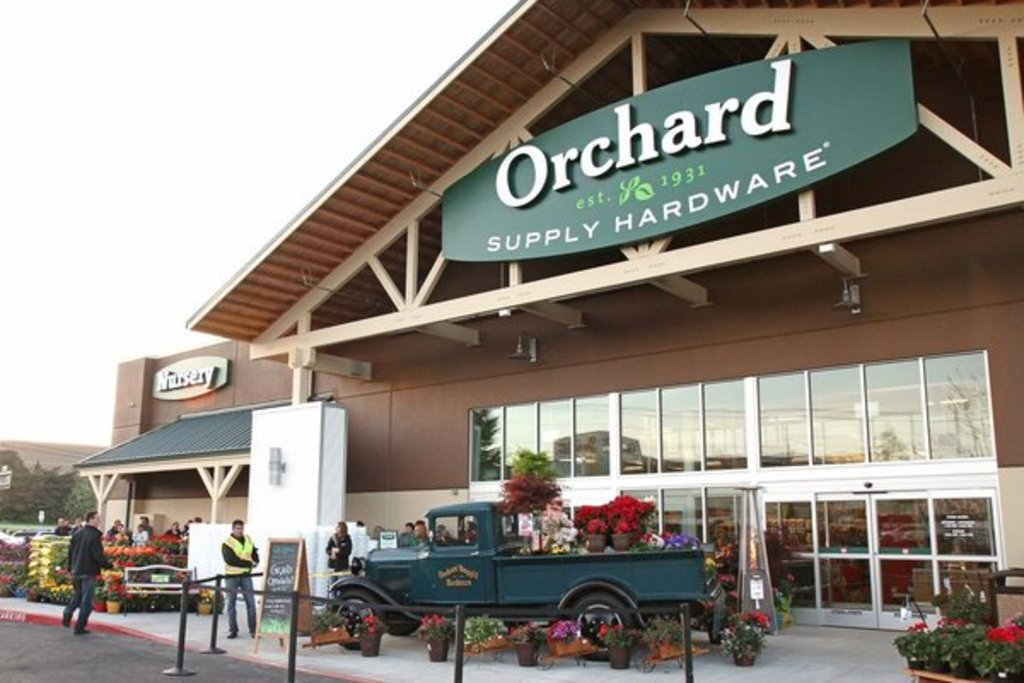Car: (327, 500, 727, 660)
